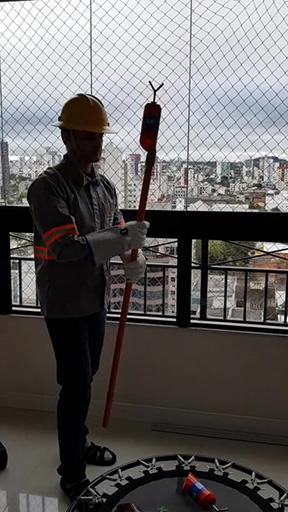Detector_Tensao_Contato: (139, 79, 165, 151)
Vara_Manobra: (102, 149, 158, 429)
